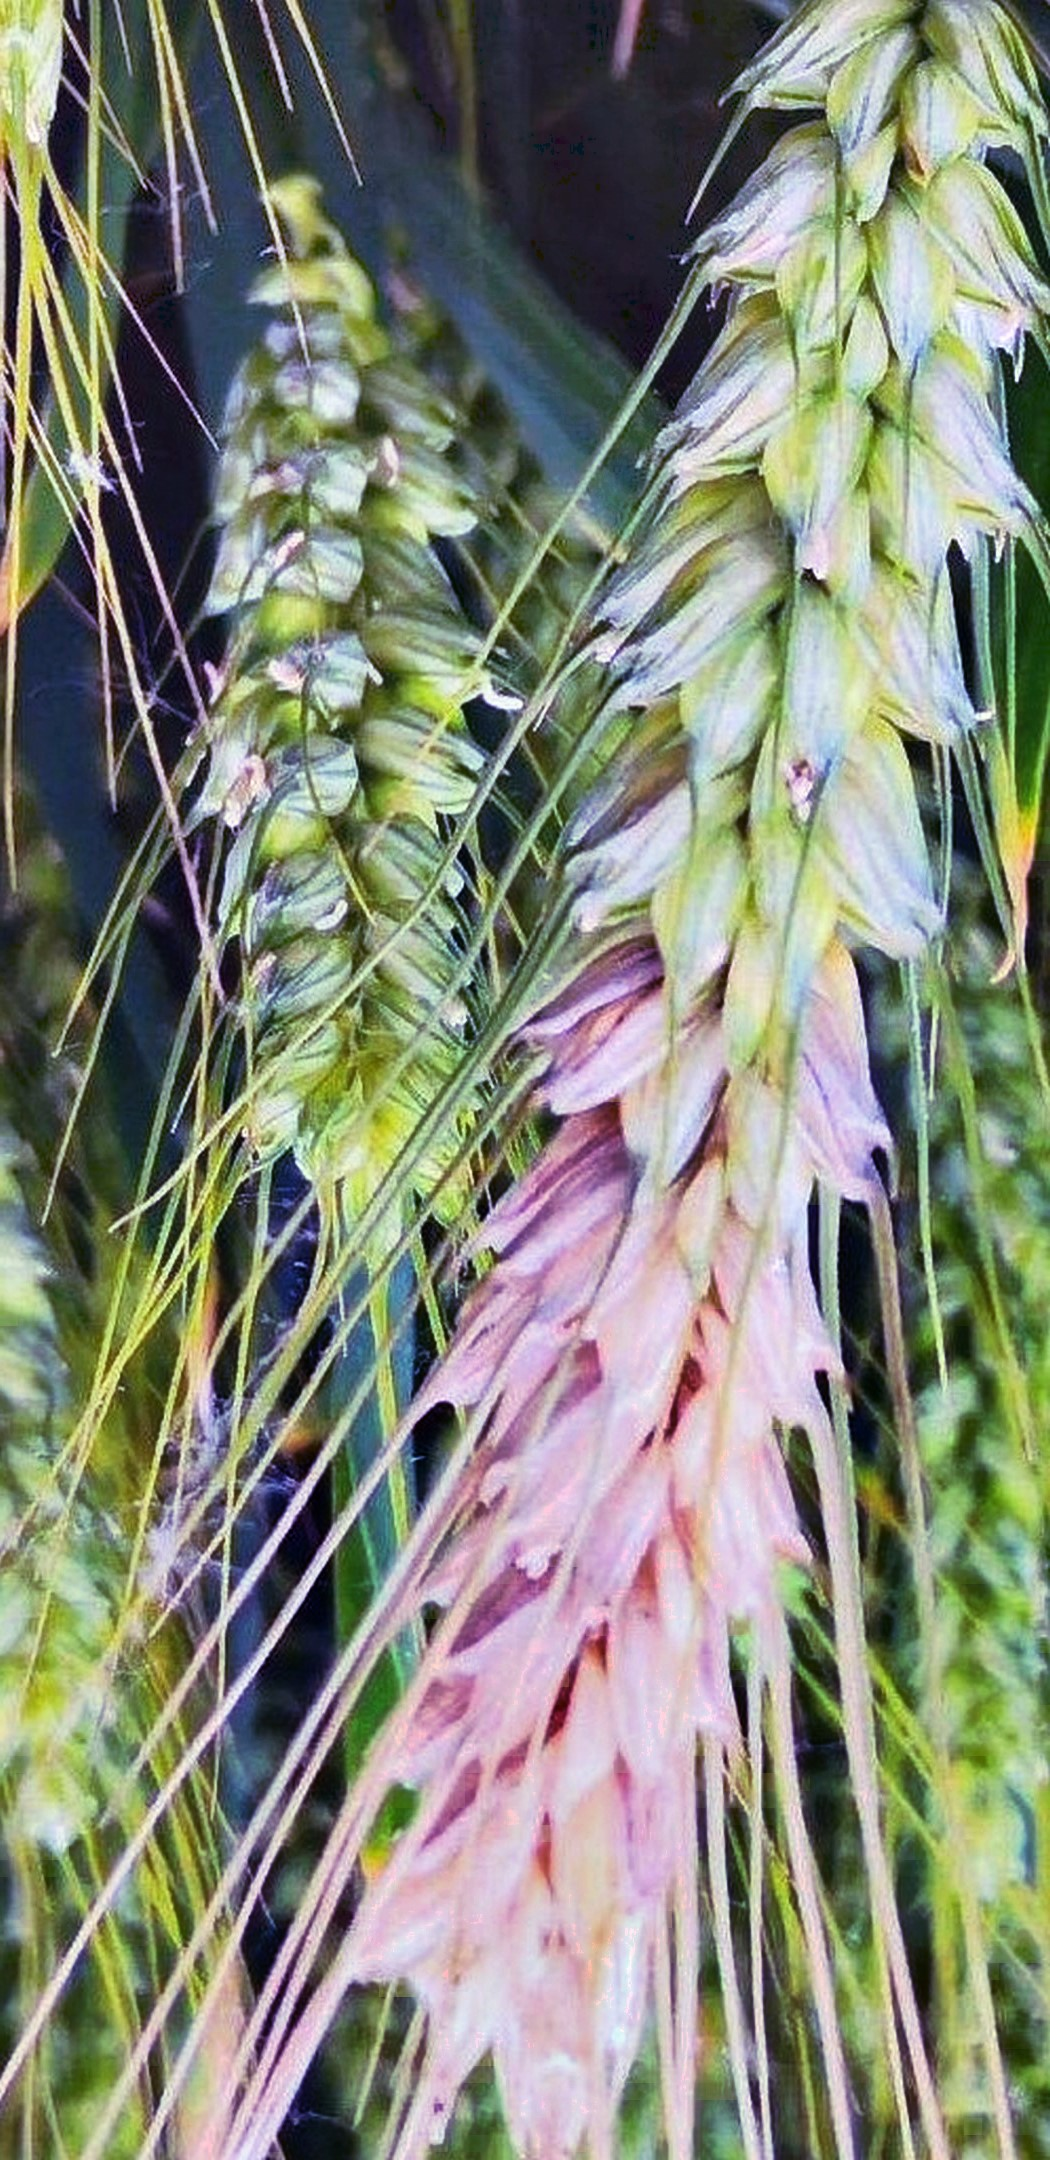Wheat scab: (395, 47, 1050, 2053)
